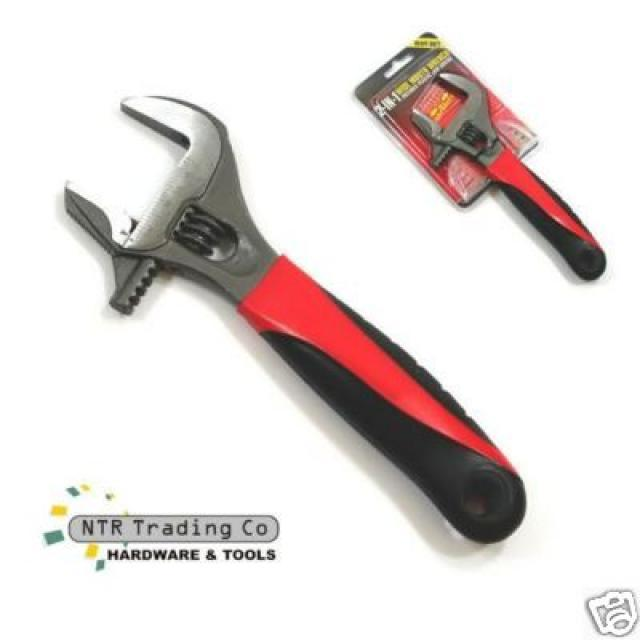wrench: (59, 89, 542, 559), (407, 66, 614, 291)
